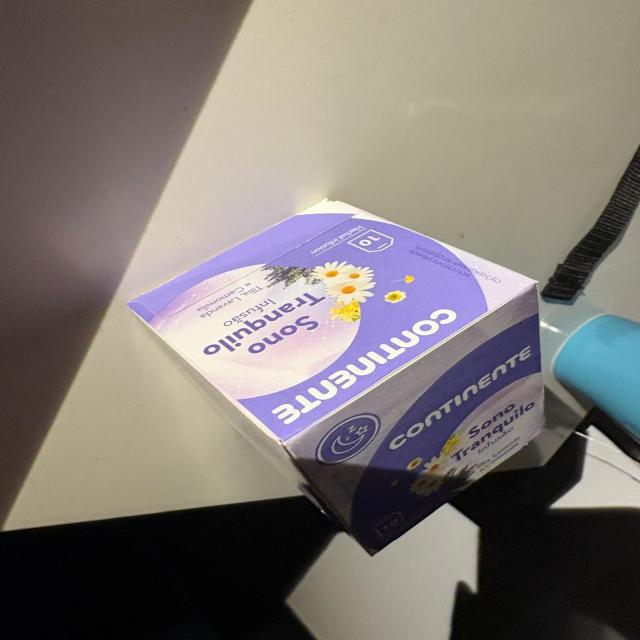good_package: (128, 195, 547, 555)
